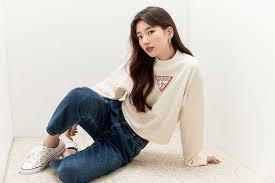pants: (46, 86, 151, 183)
sweater: (83, 48, 208, 172)
